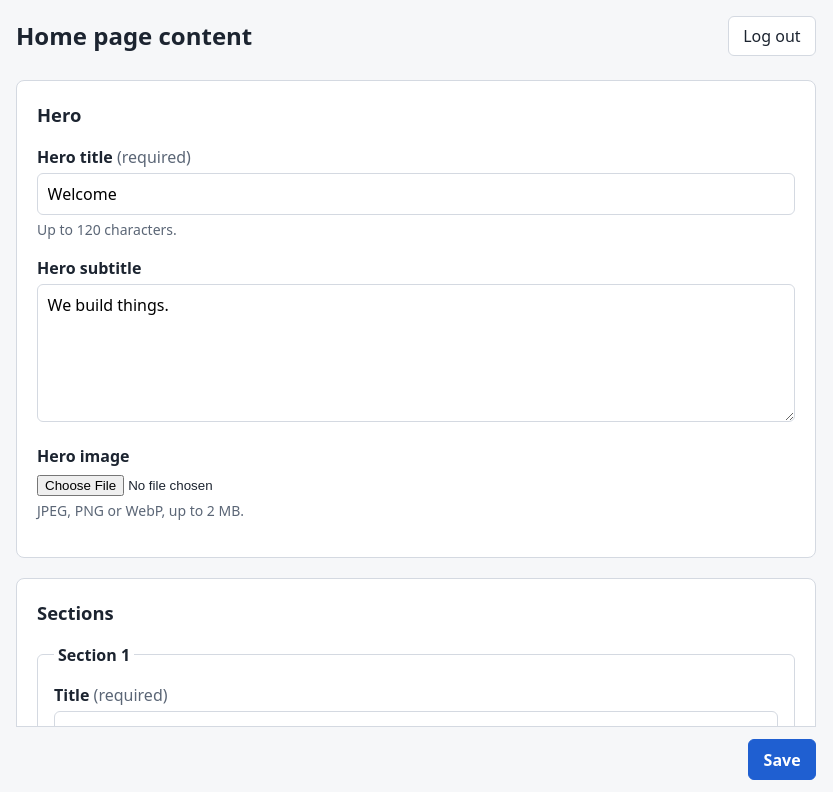
Test: Save › server rejects the content (400) → its messages are shown
The image size is (833, 792).
Expected: the field showing "Welcome" is shown, [37,173,795,215]
Click the button "Save" at (782, 760), box [748,740,816,780]
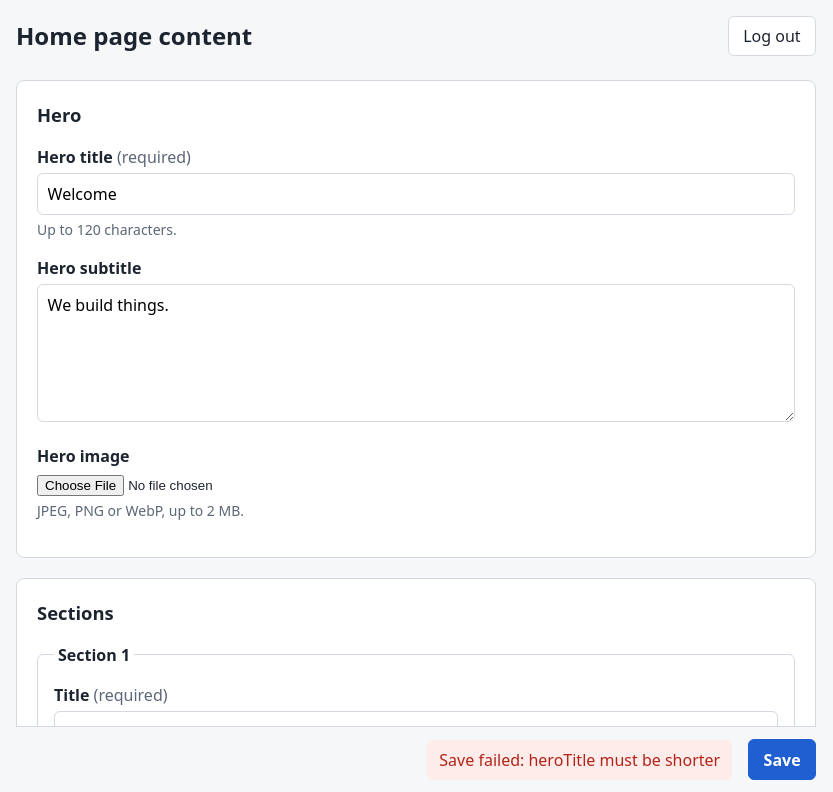
Expected: the message reads "Save failed: heroTitle must be shorter", [439,749,720,771]
